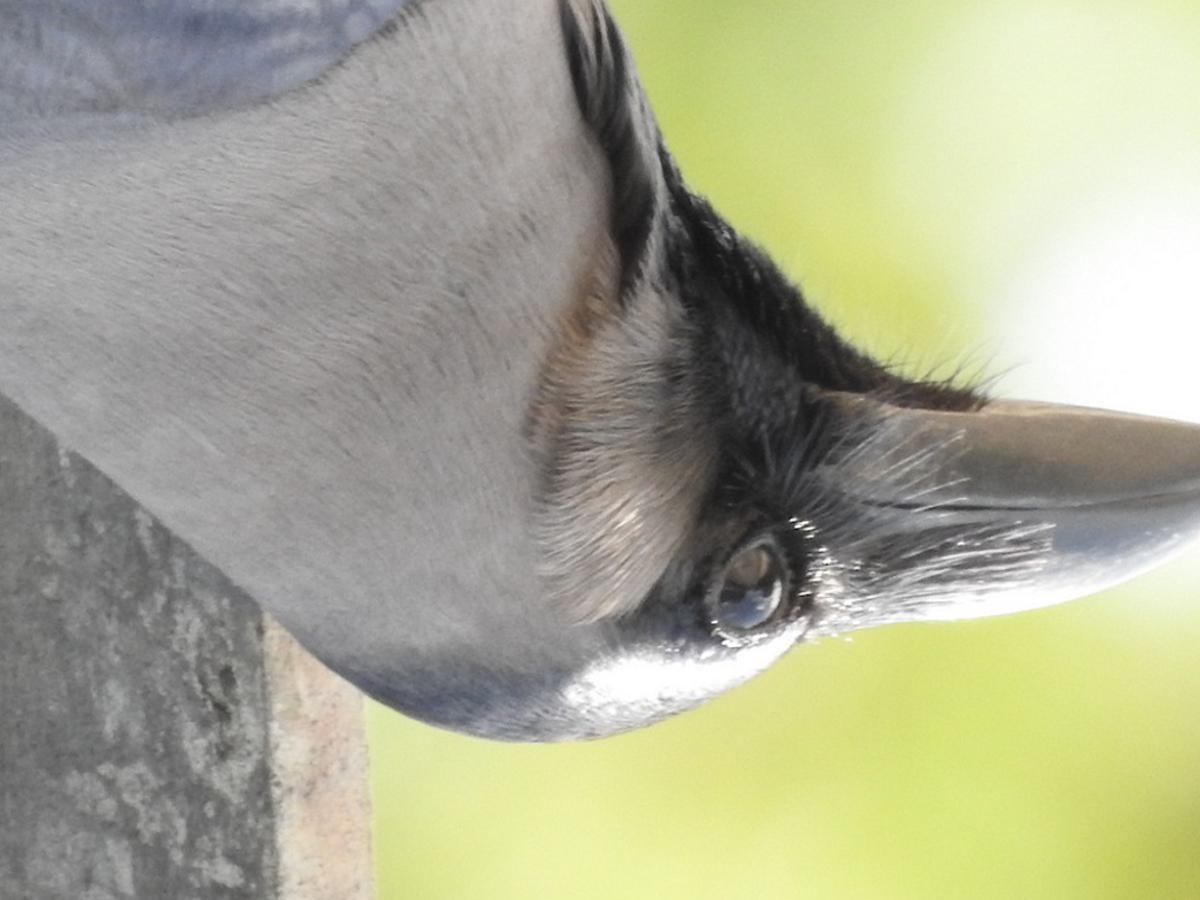crow: (1, 1, 1195, 772)
